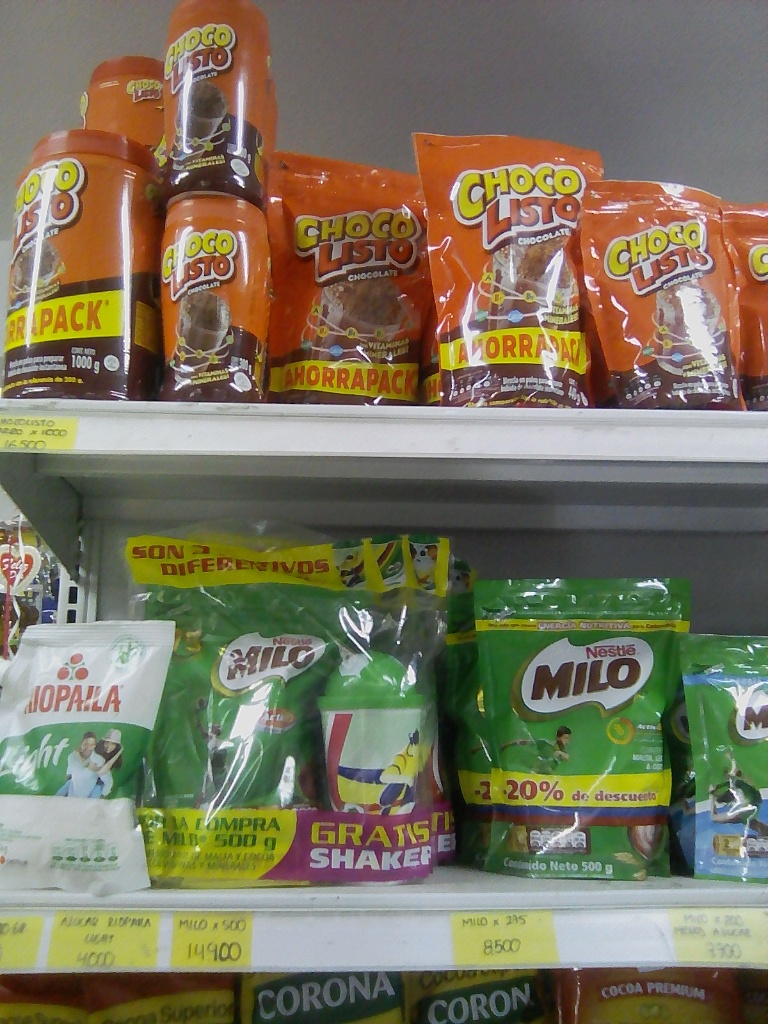COL0170103DYP20000: (581, 175, 756, 412)
COL0170103DYP40000: (422, 117, 603, 414)
COL0170103DYP44000: (266, 150, 432, 409)
COL0170103TRR00100: (1, 127, 161, 403)
COL0170103TRR30000: (164, 3, 268, 191)
COL0170203DYP50000: (450, 579, 686, 888)
COL0170205DYP20000: (686, 639, 768, 889)
